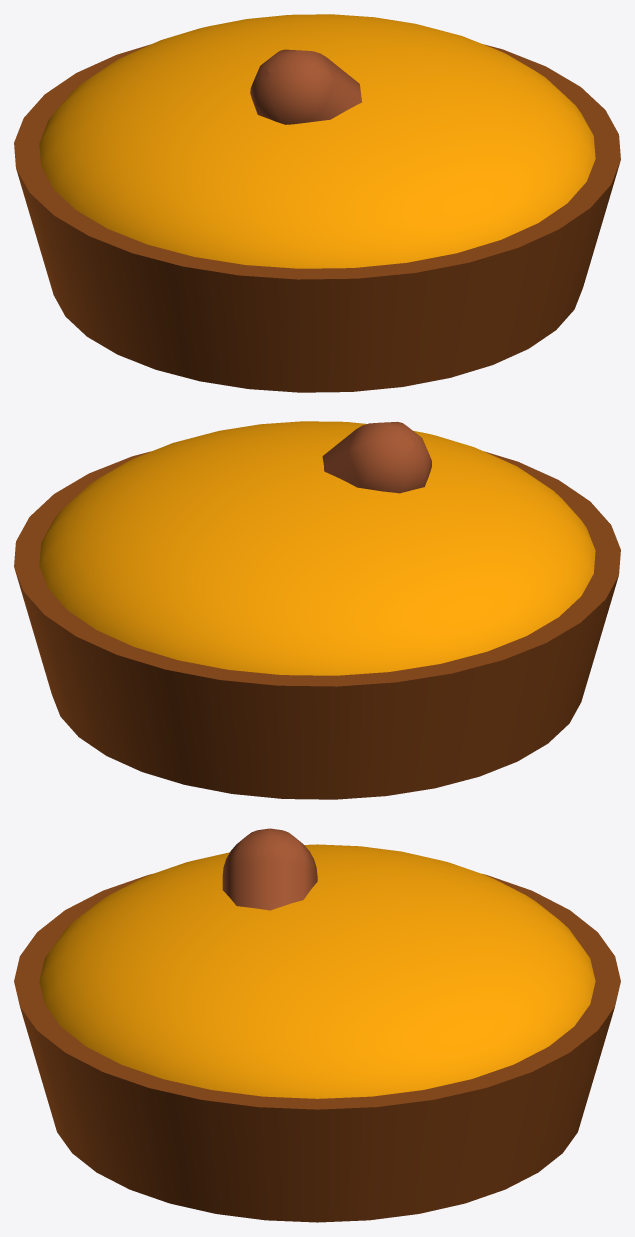
The model's file is chicken_biriyani.glb.
3 renders of one model, top to bottom at view 1: azimuth 30°, elevation 25°; view 2: azimuth 150°, elevation 25°; view 3: azimuth 270°, elevation 25°, orthographic.
Size of the model in its own units: 6.4 by 2.98 by 6.4.
